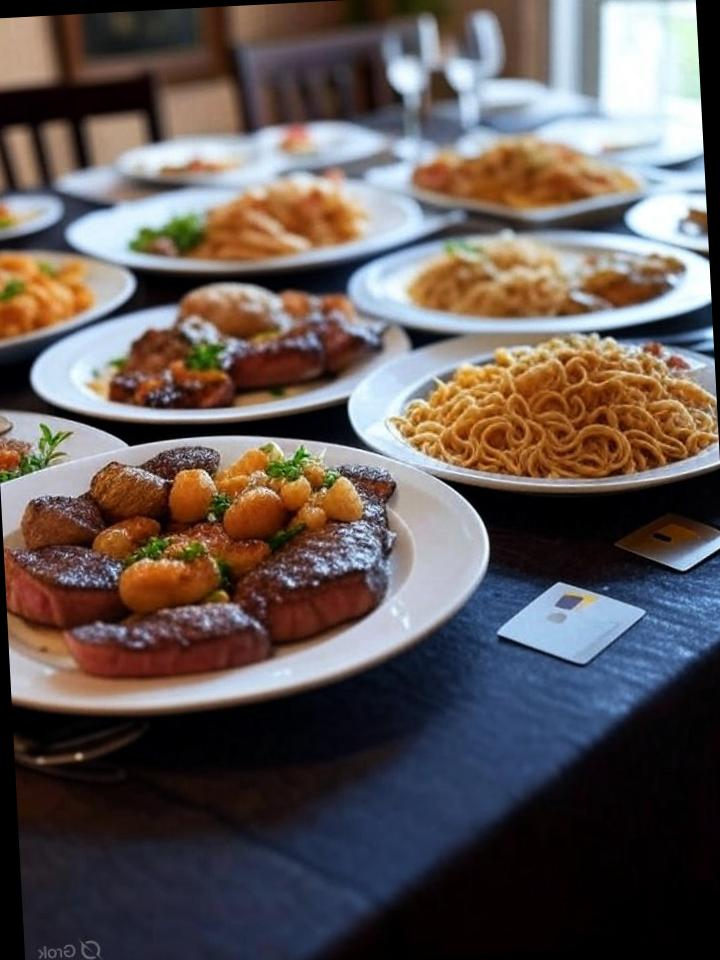nuggets: (23, 503, 393, 672)
